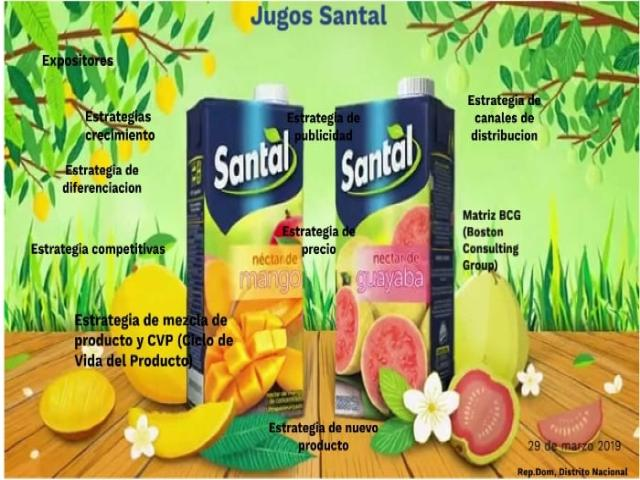drink_box: (330, 69, 460, 440), (182, 68, 310, 431)
